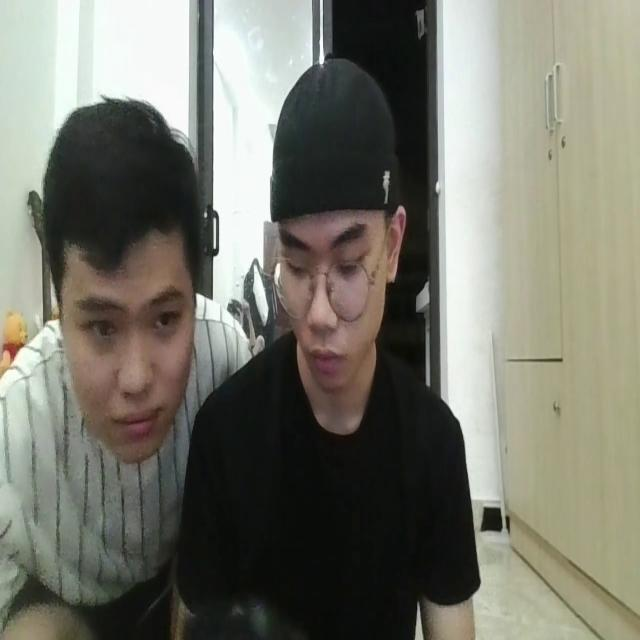extra_person: (7, 93, 205, 640)
student: (196, 53, 482, 640)
